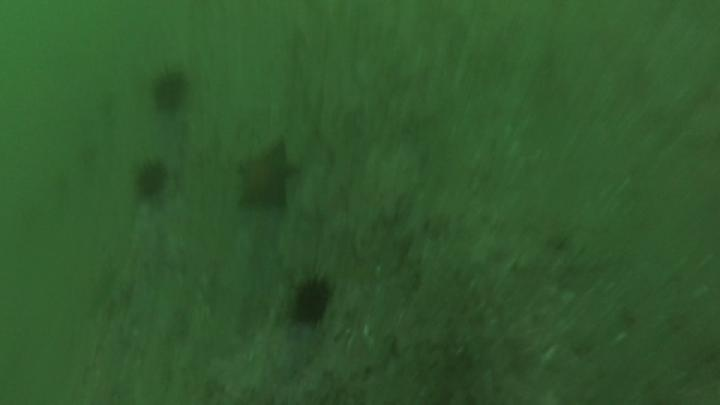echinus: (288, 274, 335, 329), (147, 66, 192, 117), (131, 157, 171, 204)
starfish: (232, 138, 302, 214)
